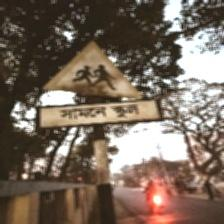School-in-front: (38, 39, 159, 131)
